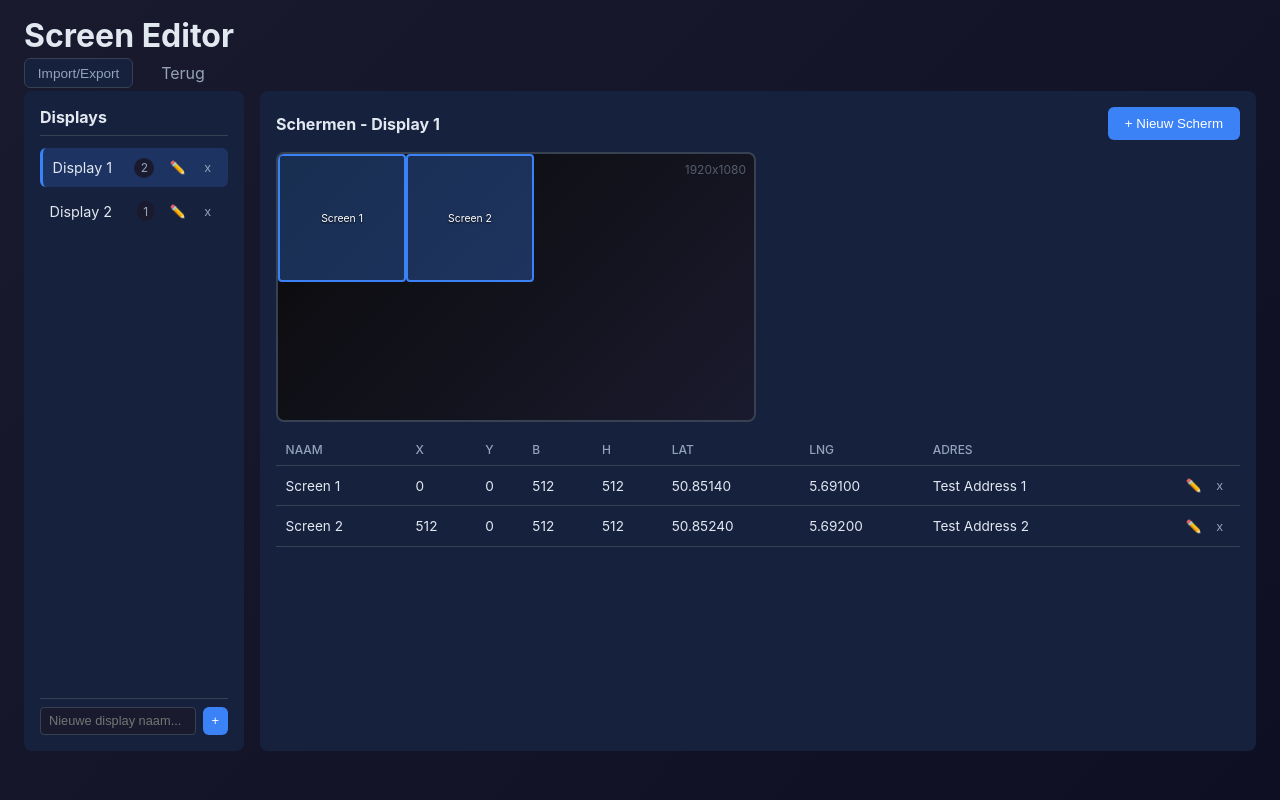
ScreenEditor page › screen management › edits screen
Click the button titled "Bewerken" in the row of "50.85140". click: (1194, 486)
box: [1178,474,1209,497]
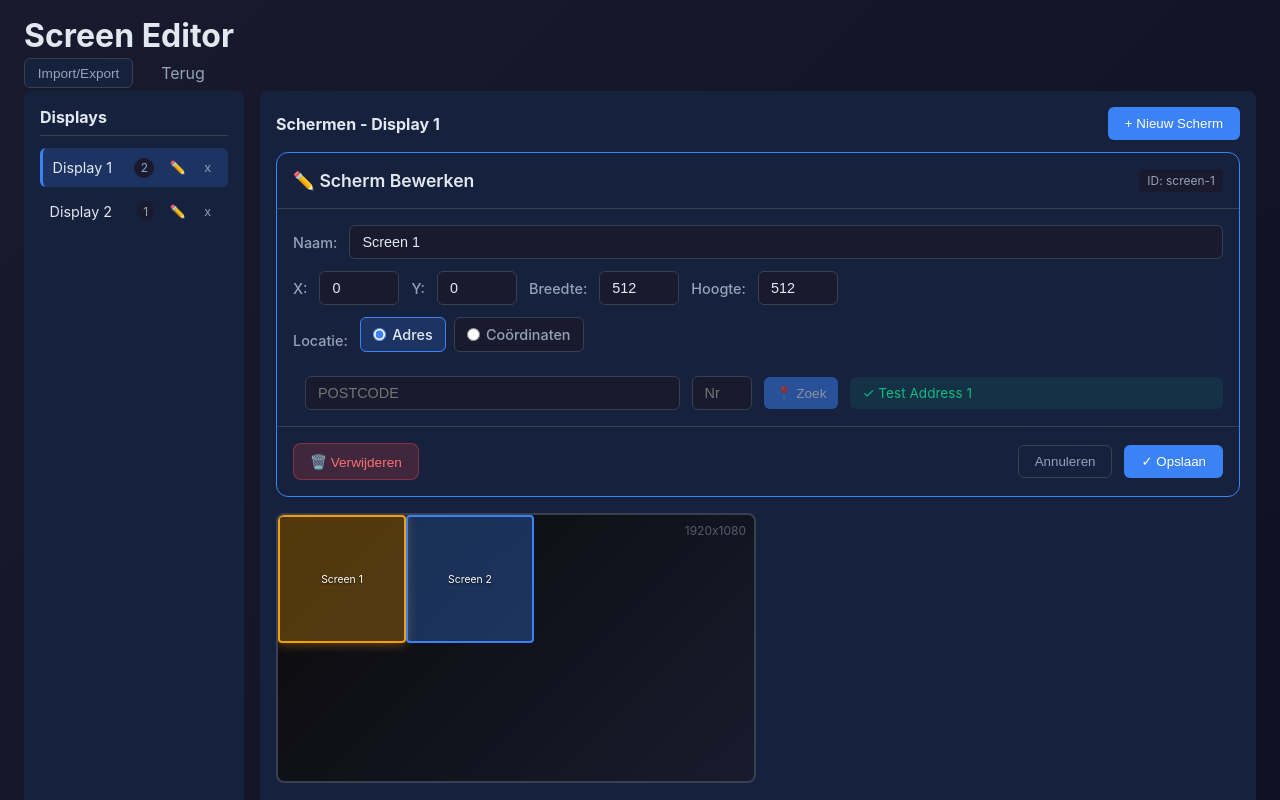
Now the field showing "Screen 1" is shown, box [349,225,1223,259]
